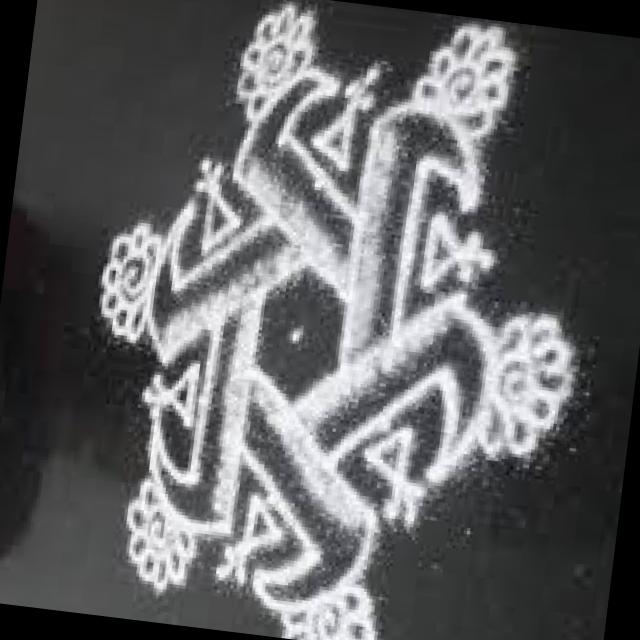rangoli: (45, 0, 576, 640)
